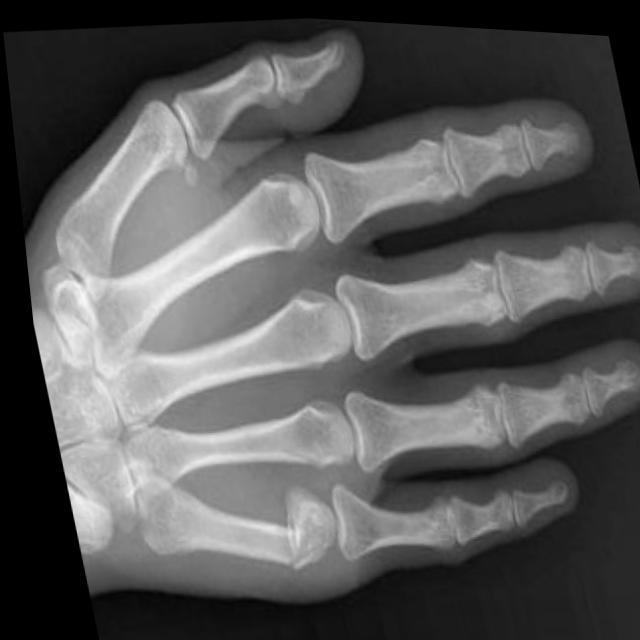fracture: (253, 473, 307, 584)
